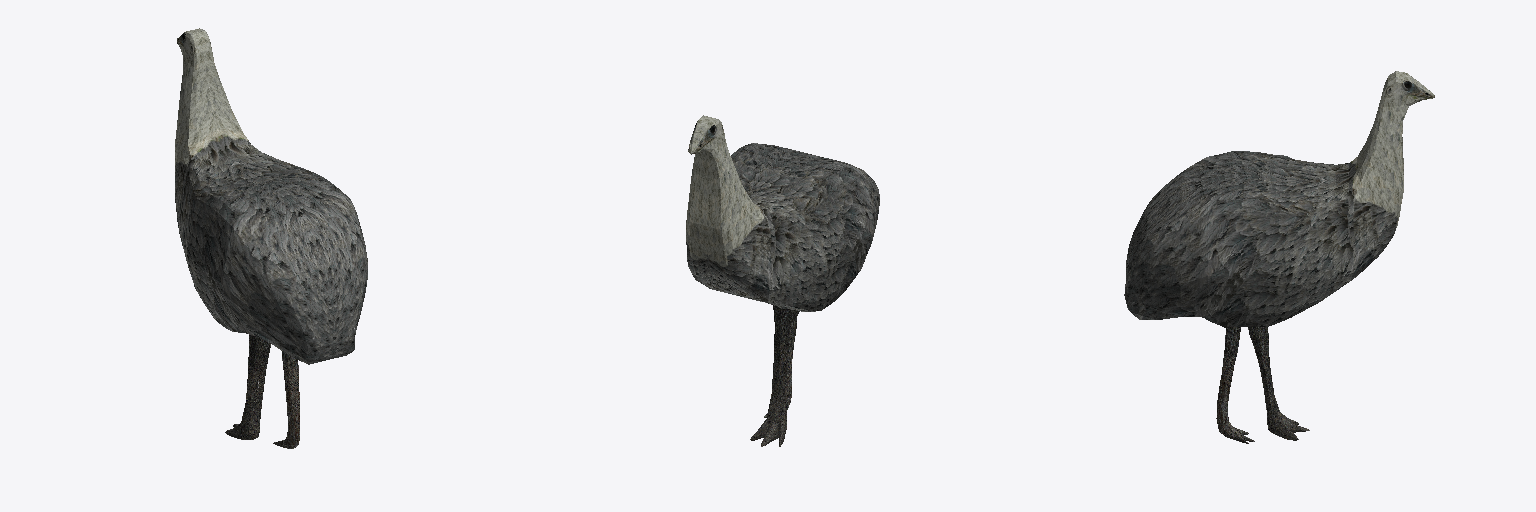
3 views of the same model, side by side, from view 1: azimuth 30°, elevation 25°; view 2: azimuth 150°, elevation 25°; view 3: azimuth 270°, elevation 25° (orthographic).
Parts seen in each view (by area): view 1: polySurface12; view 2: polySurface12; view 3: polySurface12.
Part boxes in pixels (x1,y1,x2,y2): polySurface12: (175, 28, 367, 448); polySurface12: (686, 115, 879, 446); polySurface12: (1124, 71, 1434, 443).
Bounding box in the file's own units: 0.3744 × 0.94 × 0.7311.
Materials: 1 (1 with a texture image).